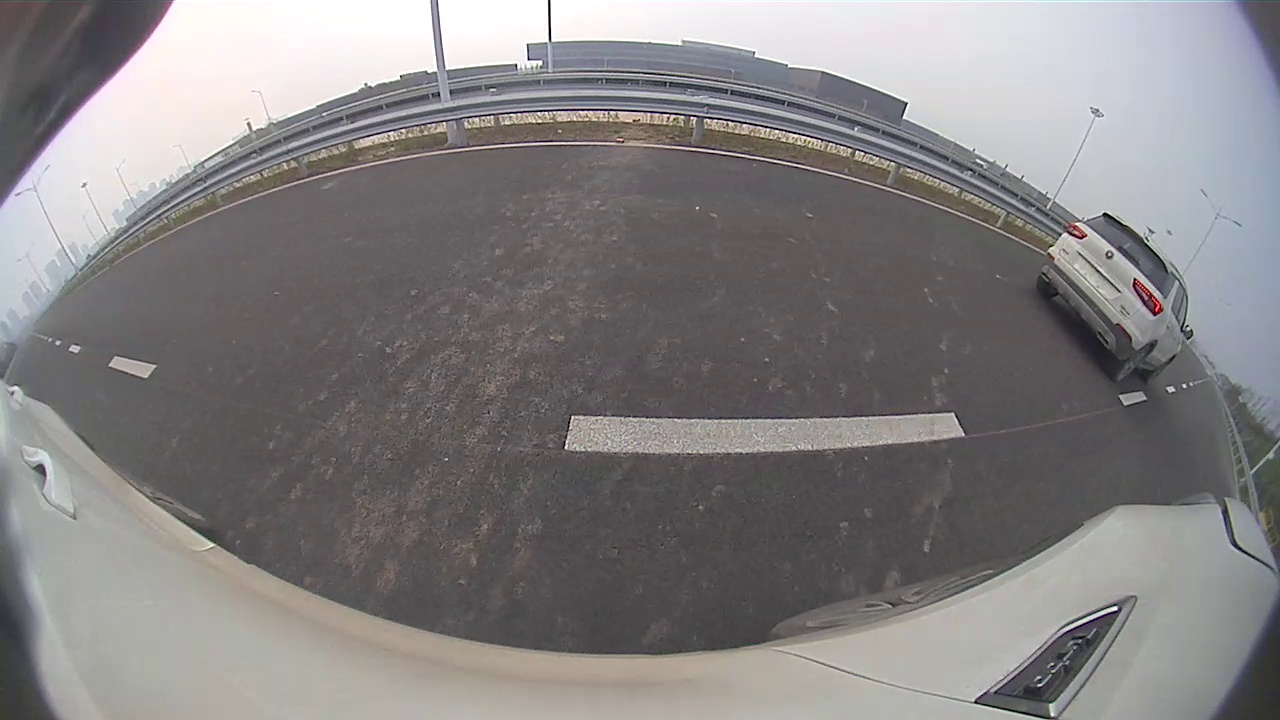car: (1037, 211, 1193, 382)
rear: (1114, 343, 1153, 381)
